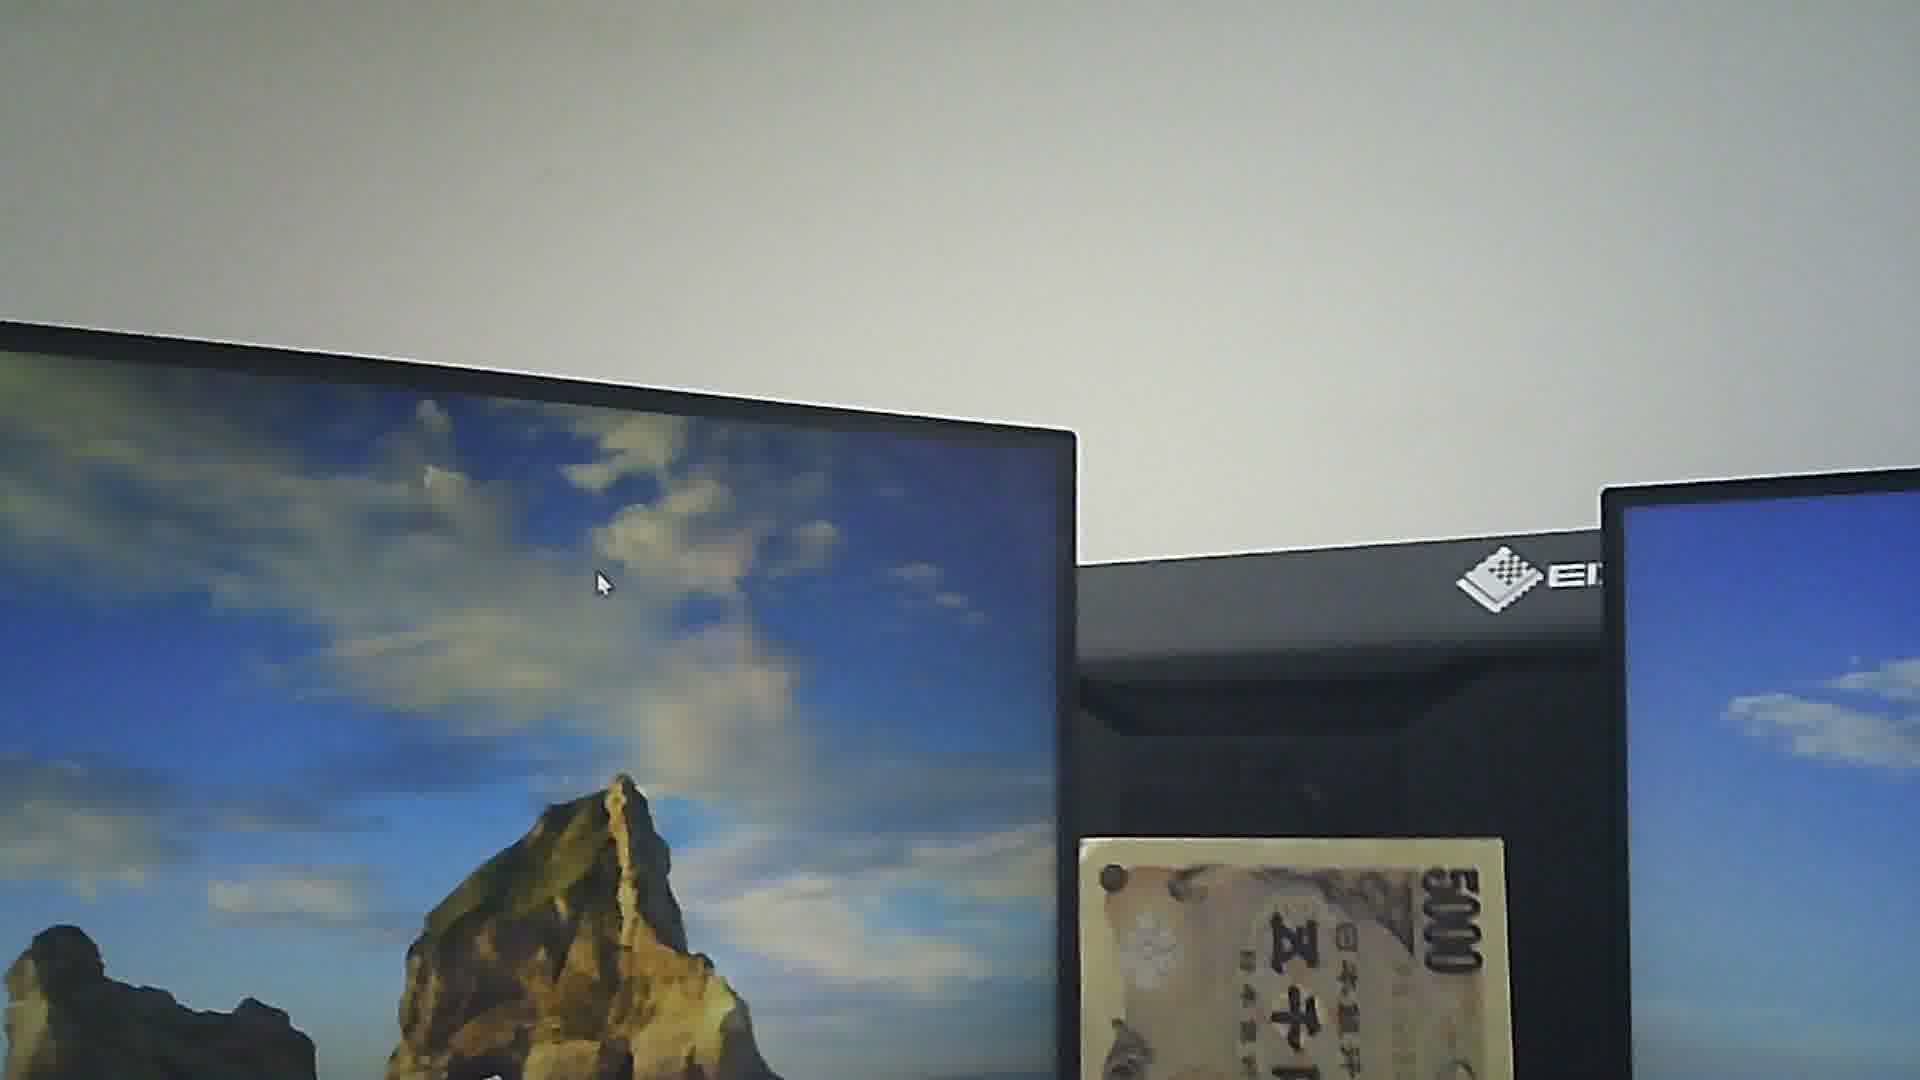5,000 Yen: (1059, 823, 1520, 1079)
